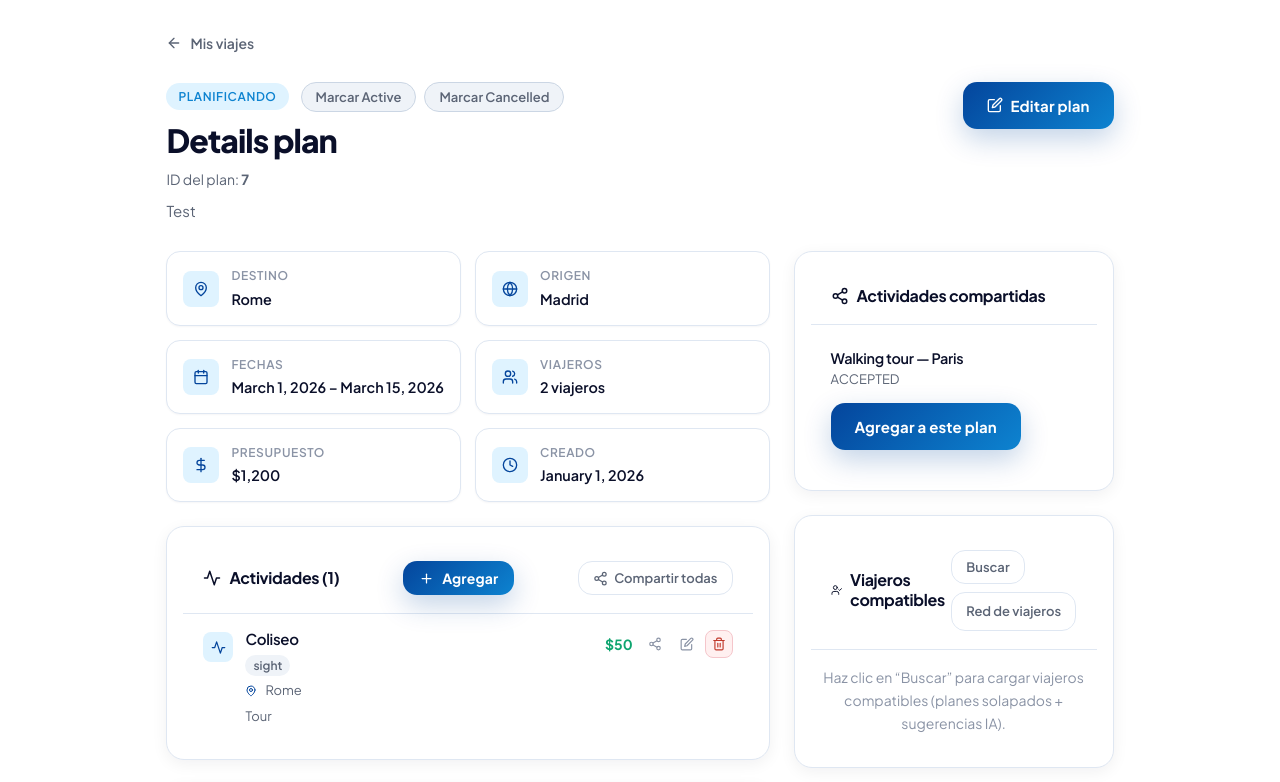
TravelDetails › muestra el error si falla guardar una actividad compartida aceptada
This screenshot has width=1280, height=782.
Click the button "Agregar a este plan": (926, 426) [830,403,1021,450]
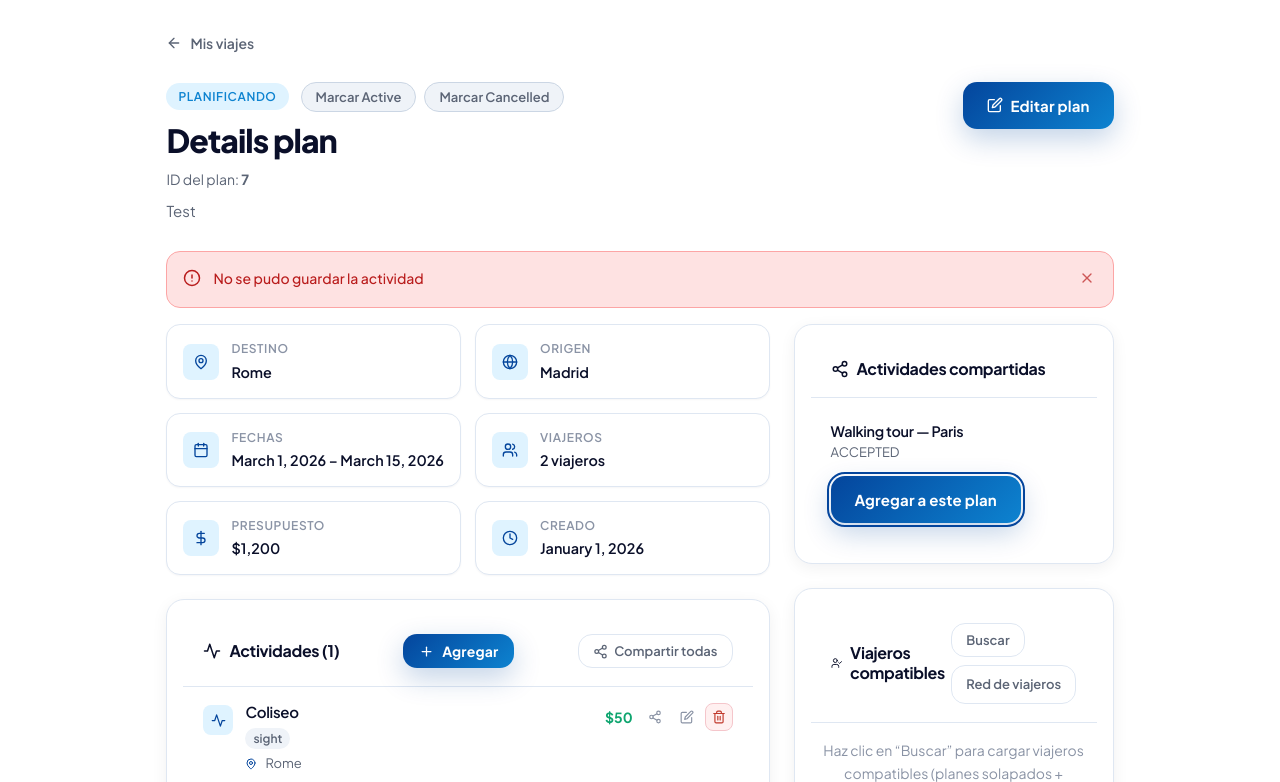
Now the text "No se pudo guardar la actividad" is shown, box [214,269,424,287]
